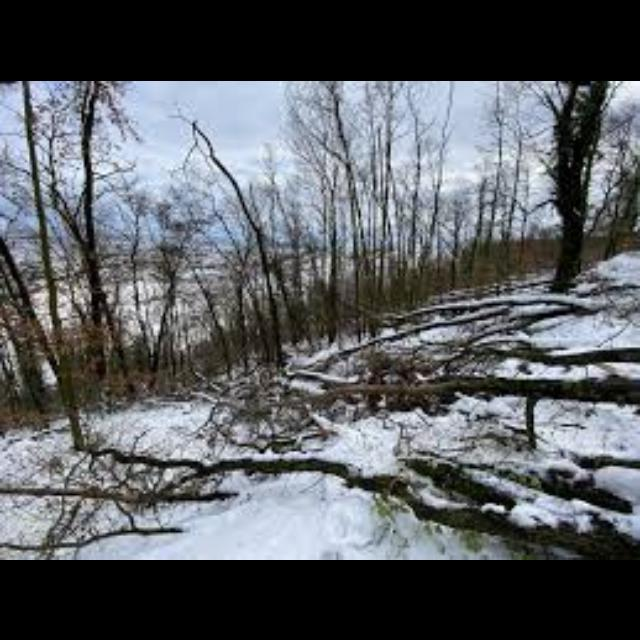Fallen Tree: (302, 459, 640, 559), (371, 352, 639, 410), (366, 283, 640, 333), (461, 338, 639, 368)
